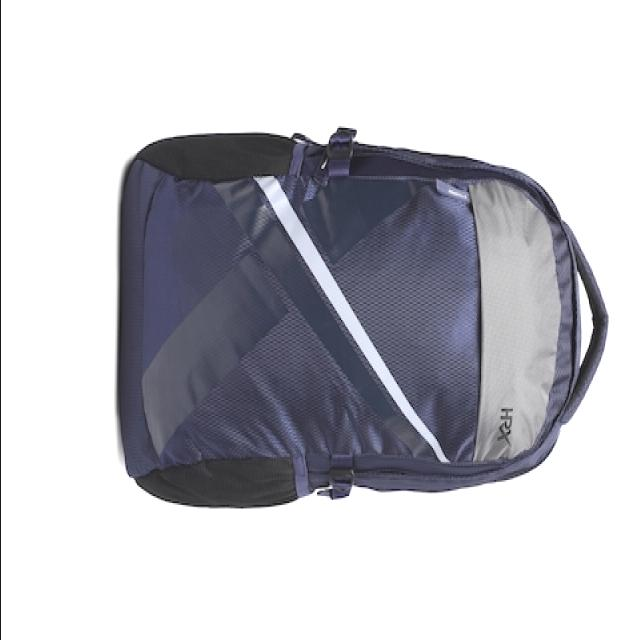backpack: (119, 128, 611, 510)
